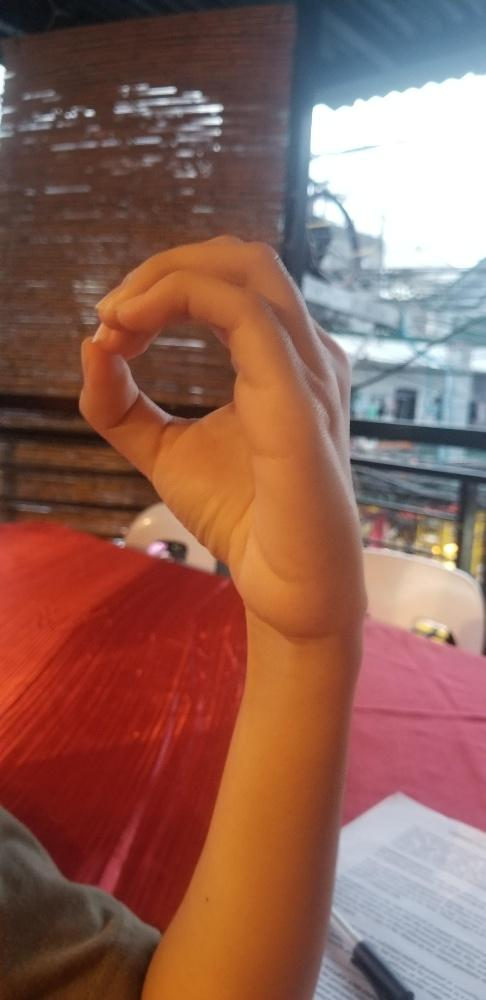o: (76, 233, 366, 626)
